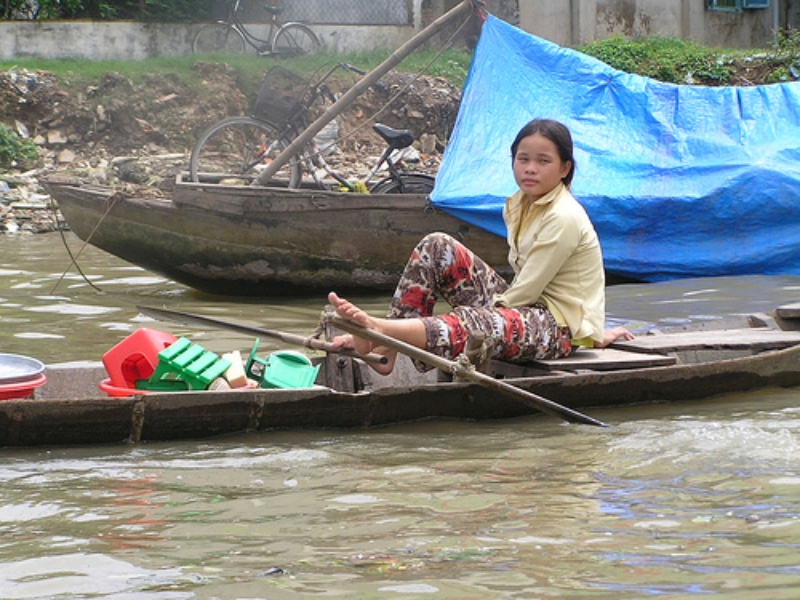person: (329, 119, 633, 376)
